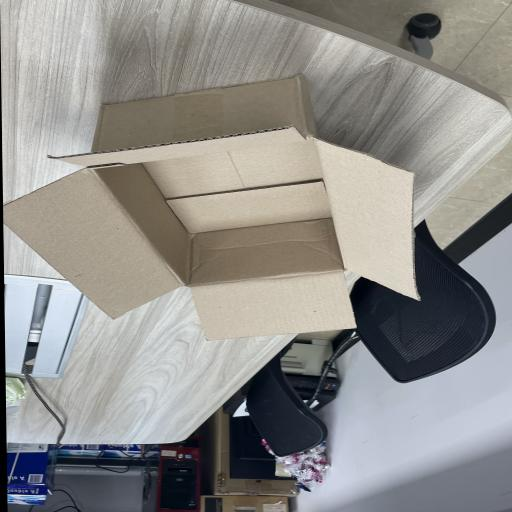box: (4, 75, 422, 342)
opened: (3, 125, 424, 342)
